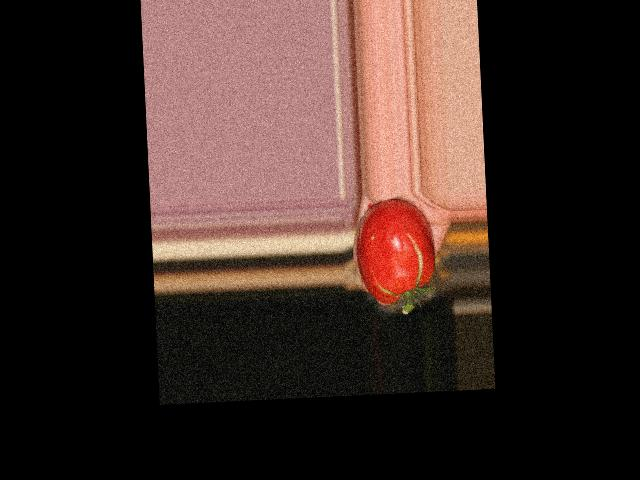tomato: (353, 197, 435, 305)
